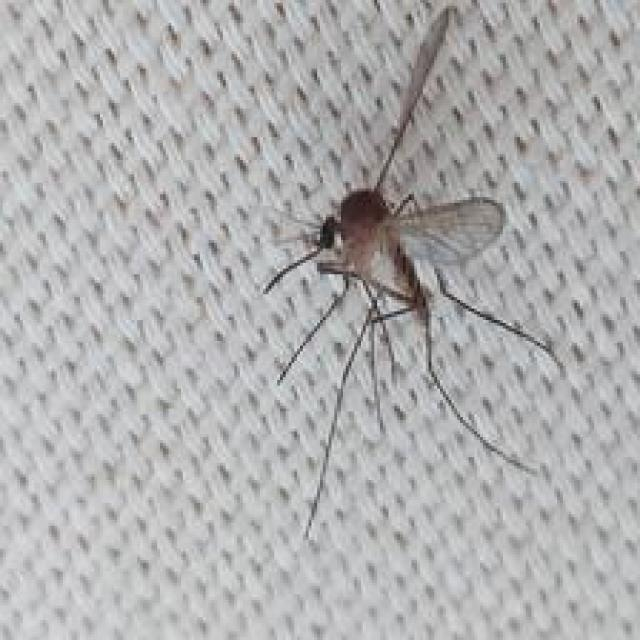Culex: (260, 4, 566, 542)
